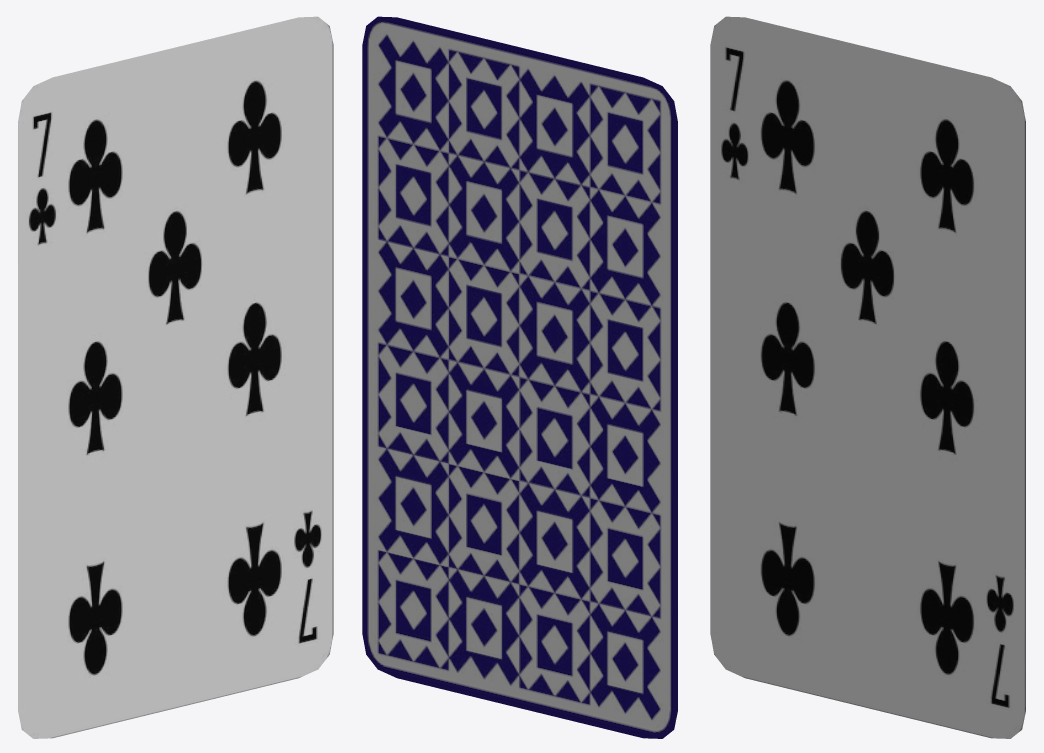
3 renders of one model, left to right at view 1: azimuth 30°, elevation 25°; view 2: azimuth 150°, elevation 25°; view 3: azimuth 330°, elevation 25°, orthographic.
Size of the model in its own units: 50 by 100 by 1.
2 materials, 2 textured.
